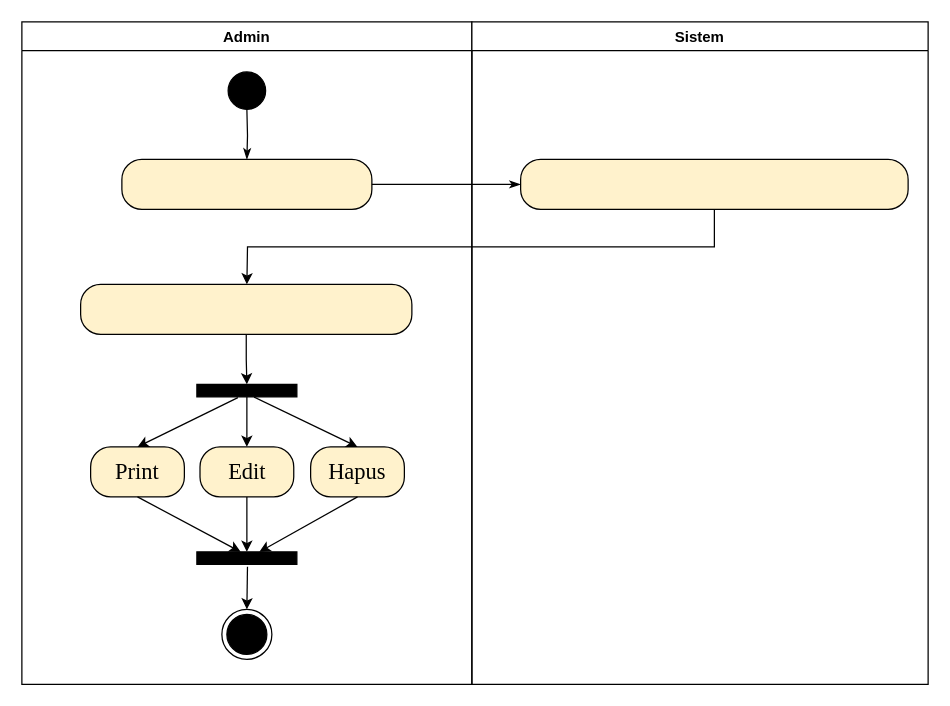
Image size: 950x706. Some labels were removed from this diagram. Here are the shapes that lost their labels. From the top down, the centre of each, then its label:
point 246,183: Memilih menu Checking Kenyamanan Banking Hall
point 713,183: Menampilkan halaman Checking Kenyamanan Banking Hall
point 245,308: Melihat halaman Checking Kenyamanan Banking Hall
